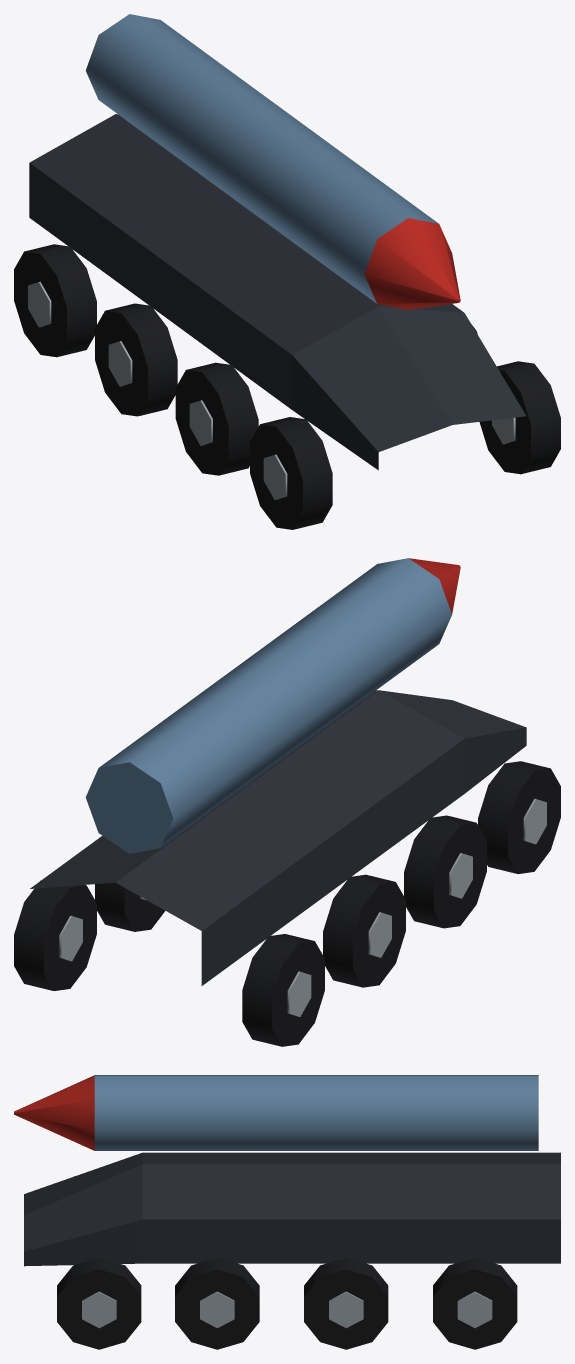
The model's file is veh_ground_missile_carrier_a09.glb.
3 views of the same model, one above another, from view 1: azimuth 30°, elevation 25°; view 2: azimuth 150°, elevation 25°; view 3: azimuth 270°, elevation 25° (orthographic). The views are drawn at different scales.
Visible parts, largest first — view 1: body, launcher, wheel_6, wheel_2, wheel_0, wheel_4, wheel_7; view 2: body, launcher, wheel_0, wheel_4, wheel_2, wheel_6, wheel_1, wheel_3; view 3: body, launcher, wheel_7, wheel_3, wheel_5, wheel_1.
Boxes of the visible parts, <box> form: body: <box>29,114,526,470</box>; launcher: <box>85,14,460,309</box>; wheel_6: <box>250,417,332,529</box>; wheel_2: <box>95,303,177,416</box>; wheel_0: <box>14,244,96,357</box>; wheel_4: <box>175,362,258,475</box>; wheel_7: <box>479,361,560,474</box>; body: <box>30,690,526,985</box>; launcher: <box>85,558,460,853</box>; wheel_0: <box>242,934,324,1046</box>; wheel_4: <box>404,815,486,928</box>; wheel_2: <box>323,874,405,987</box>; wheel_6: <box>478,761,560,873</box>; wheel_1: <box>14,880,96,990</box>; wheel_3: <box>95,882,164,931</box>; body: <box>24,1152,560,1266</box>; launcher: <box>14,1075,538,1150</box>; wheel_7: <box>57,1257,141,1349</box>; wheel_3: <box>304,1257,388,1349</box>; wheel_5: <box>175,1257,259,1349</box>; wheel_1: <box>433,1258,517,1349</box>.
Size of what is drawn, in the model's own units: 2.98 by 3.05 by 6.78.
